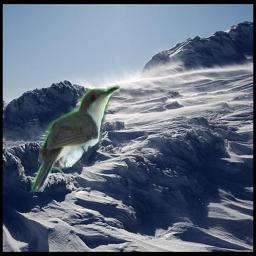Cuckoo: (32, 86, 121, 193)
